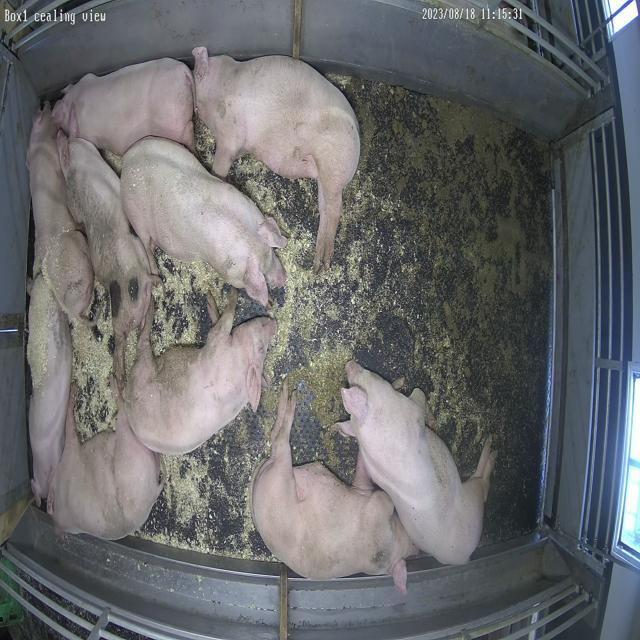Dirt: (337, 79, 552, 544), (293, 353, 355, 478)
Pig: (195, 47, 360, 272), (251, 382, 417, 594), (339, 362, 497, 566), (121, 137, 287, 306), (58, 121, 153, 392), (124, 290, 276, 456), (48, 405, 162, 540), (26, 105, 93, 318), (52, 58, 194, 157), (26, 272, 72, 500)
